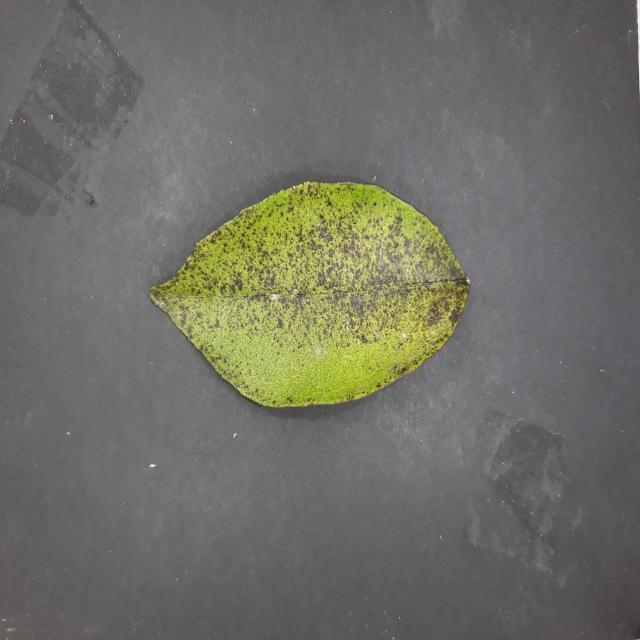greasy_spot: (150, 182, 469, 407)
